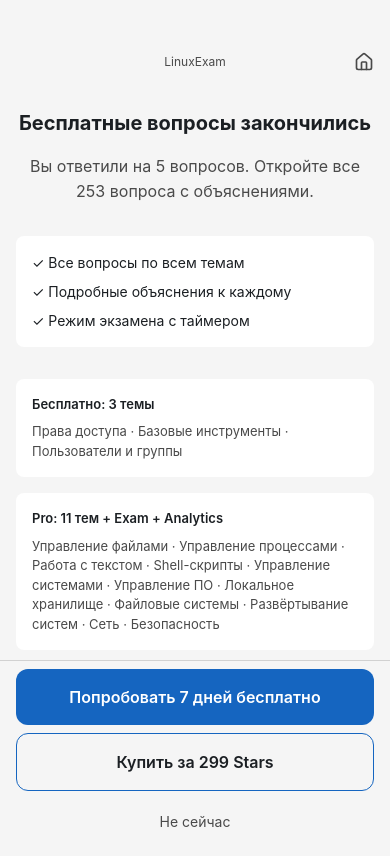
Test case: Paywall — покупка (spec 064) › failed → тоже не открывает Pro
Step 1. Click the button with test id "paywall-buy" → [195, 762], box [16,733,374,791]
(page scrolled)
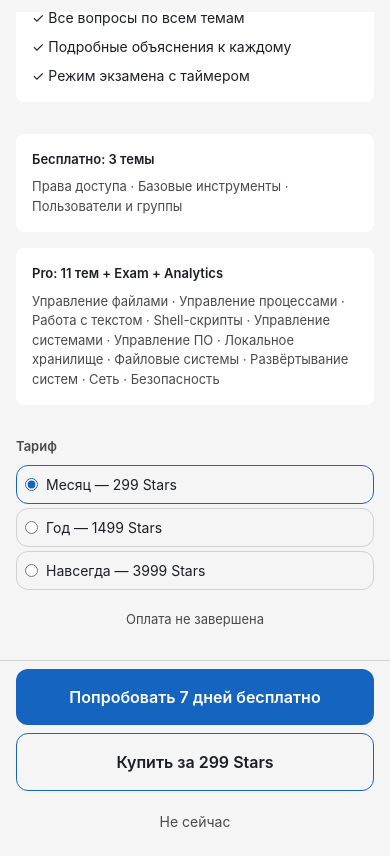
Expected: the text "Оплата не завершена" is shown, [126,611,264,627]
